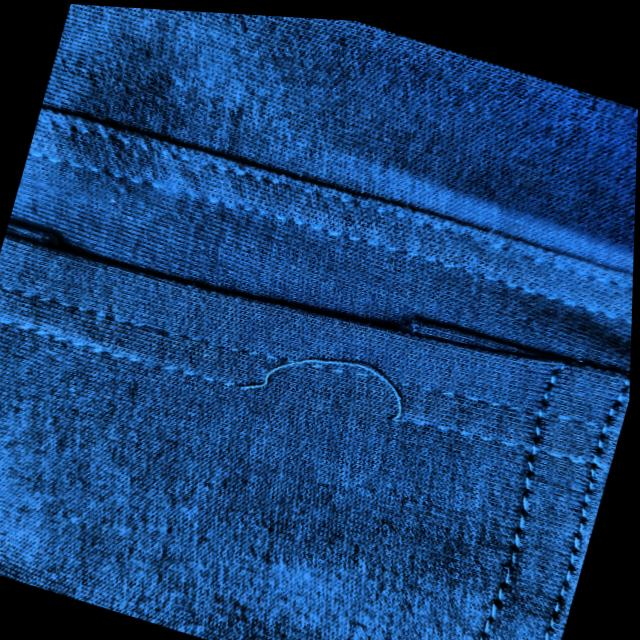Stitch: (199, 291, 465, 464)
